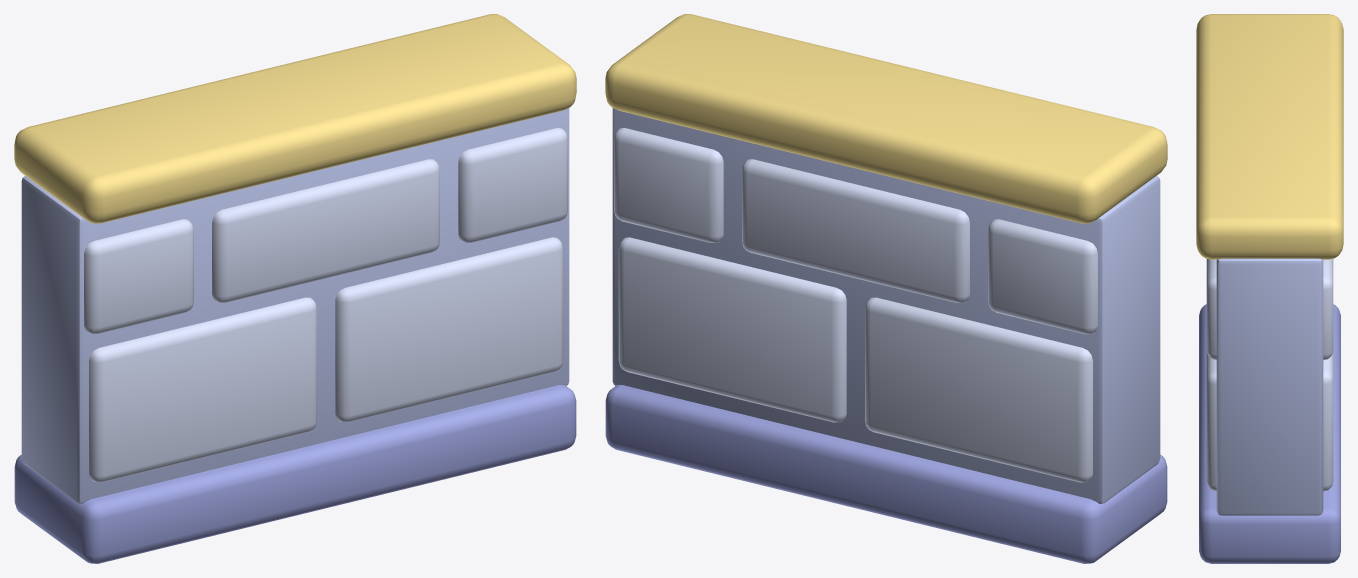
File: SM_Wall.fbx
3 views of the same model, side by side, from view 1: azimuth 30°, elevation 25°; view 2: azimuth 150°, elevation 25°; view 3: azimuth 270°, elevation 25° (orthographic). The views are drawn at different scales.
Parts seen in each view (by area): view 1: SM_Wall; view 2: SM_Wall; view 3: SM_Wall.
Part boxes in pixels (left/top/right/bottom): SM_Wall: left=14, top=14, right=576, bottom=563; SM_Wall: left=605, top=14, right=1167, bottom=563; SM_Wall: left=1196, top=14, right=1343, bottom=563.
Bounding box in the file's own units: 2 × 1.5 × 0.58.
